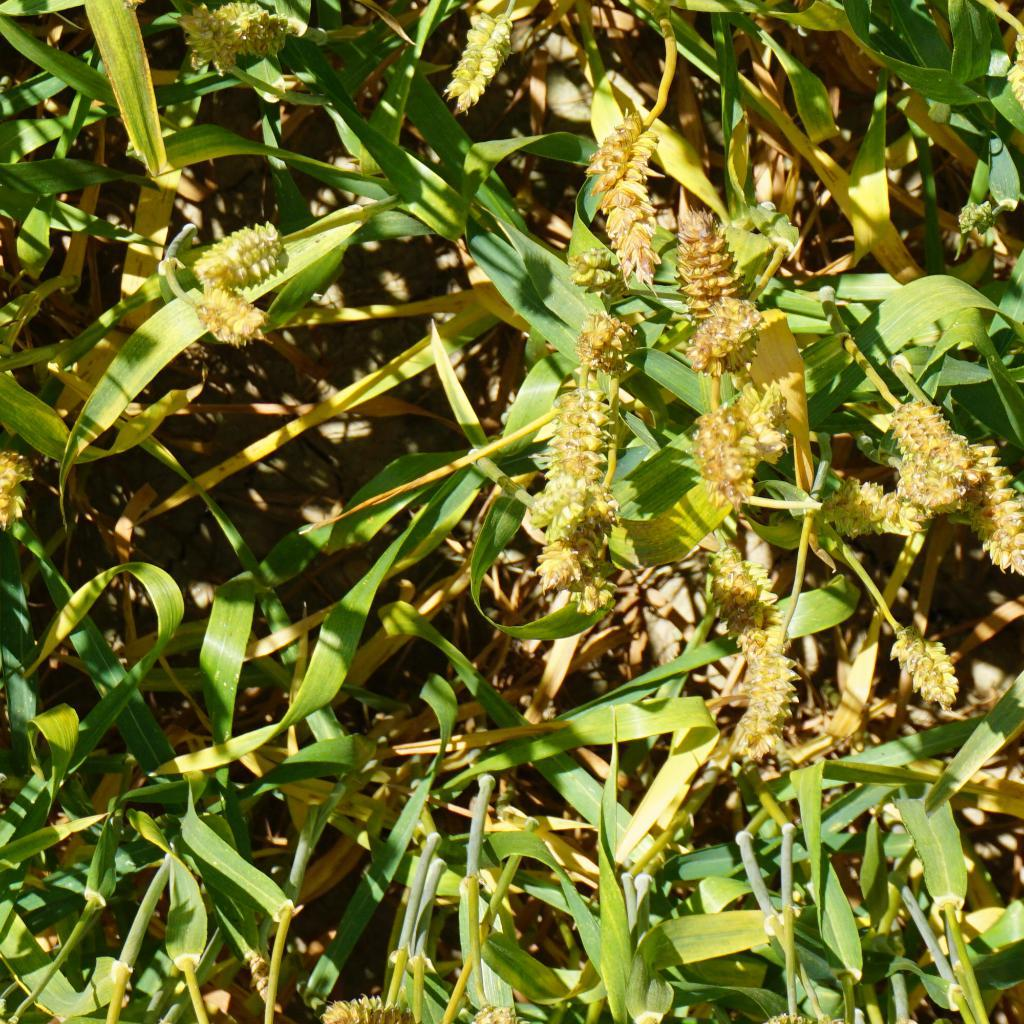0-0: (582, 100, 677, 292), (520, 481, 619, 607), (712, 538, 795, 683), (721, 633, 804, 777), (542, 377, 623, 496), (815, 476, 926, 550), (187, 210, 286, 291), (683, 408, 760, 512), (671, 210, 737, 330), (436, 3, 502, 119), (554, 536, 634, 629), (972, 436, 1024, 579), (678, 293, 764, 375), (883, 626, 963, 714), (886, 396, 975, 473), (723, 384, 799, 472), (703, 537, 766, 626), (192, 285, 270, 355), (158, 0, 233, 66), (567, 307, 640, 374), (317, 983, 434, 1024), (525, 481, 603, 539), (207, 0, 287, 49), (903, 451, 959, 519), (0, 442, 33, 531), (563, 249, 622, 297), (1001, 26, 1024, 131), (953, 198, 1006, 236), (463, 989, 513, 1024)
